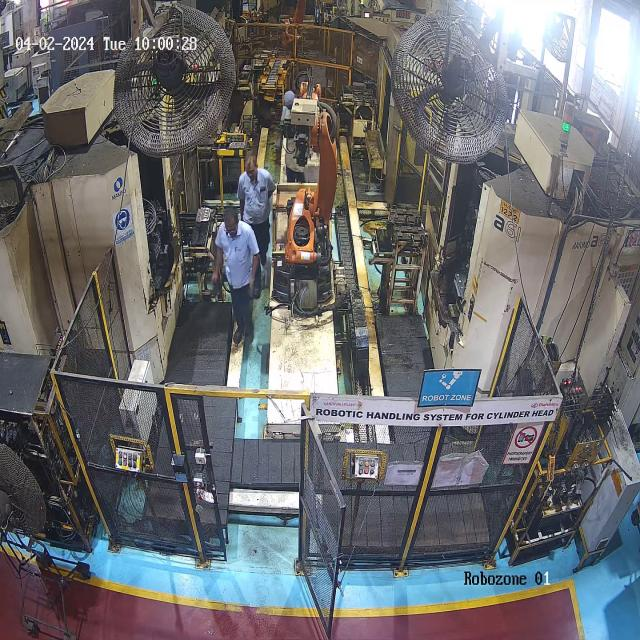person: (212, 208, 270, 344), (279, 89, 305, 181), (236, 156, 274, 207)
